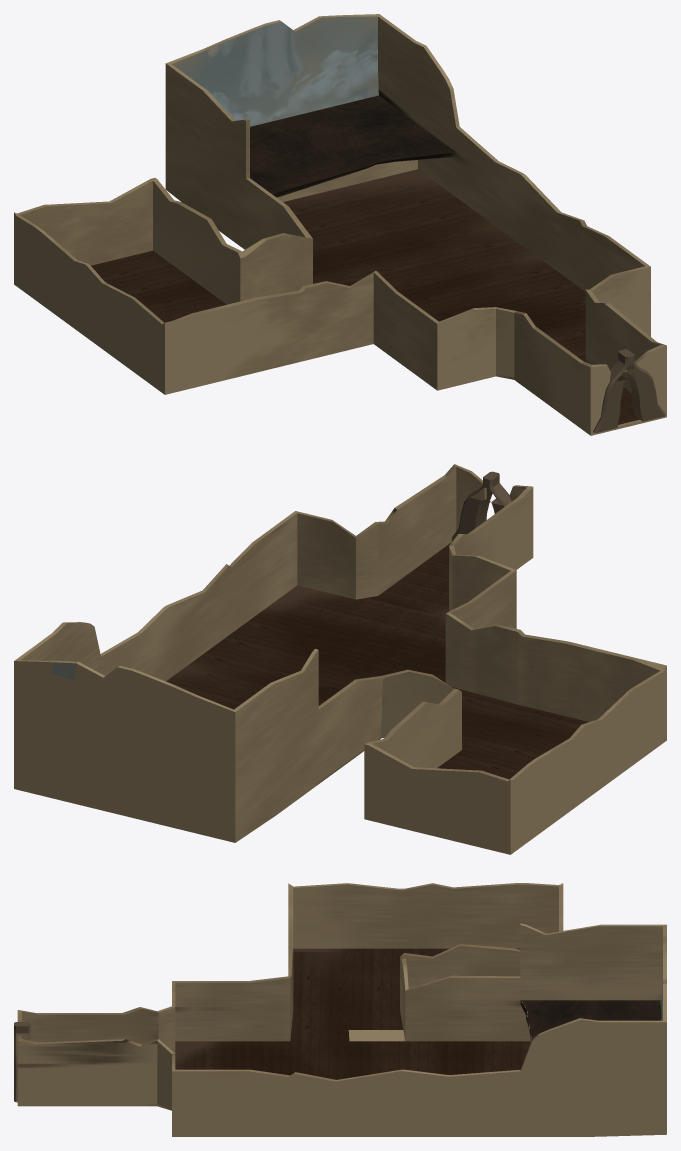
File: Church_base.obj
3 views of the same model, one above another, from view 1: azimuth 30°, elevation 25°; view 2: azimuth 150°, elevation 25°; view 3: azimuth 270°, elevation 25° (orthographic). The views are drawn at different scales.
Parts seen in each view (by area): view 1: pCube3_initialShadingGroup; view 2: pCube3_initialShadingGroup; view 3: pCube3_initialShadingGroup.
Part boxes in pixels (x1,y1,x2,y2): pCube3_initialShadingGroup: [14, 14, 666, 435]; pCube3_initialShadingGroup: [14, 464, 666, 854]; pCube3_initialShadingGroup: [14, 883, 666, 1136].
Bounding box in the file's own units: 102 × 33.12 × 149.
Materials: 1 (1 with a texture image).
